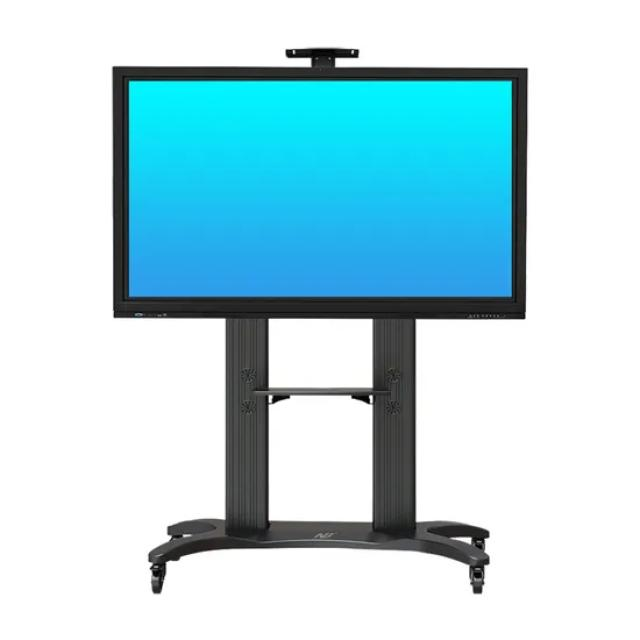electronics: (113, 48, 522, 591), (113, 67, 521, 317)
